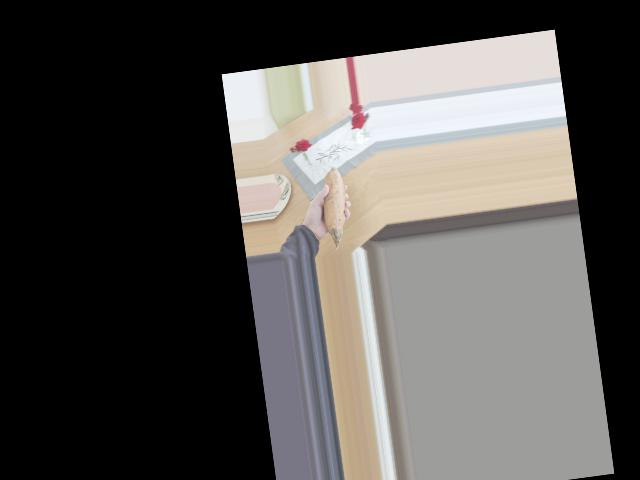sweet_potato: (310, 163, 354, 244)
